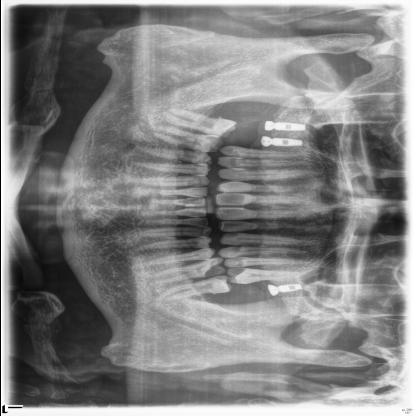Bicon: (274, 119, 312, 136), (276, 280, 308, 298), (270, 138, 308, 148)
